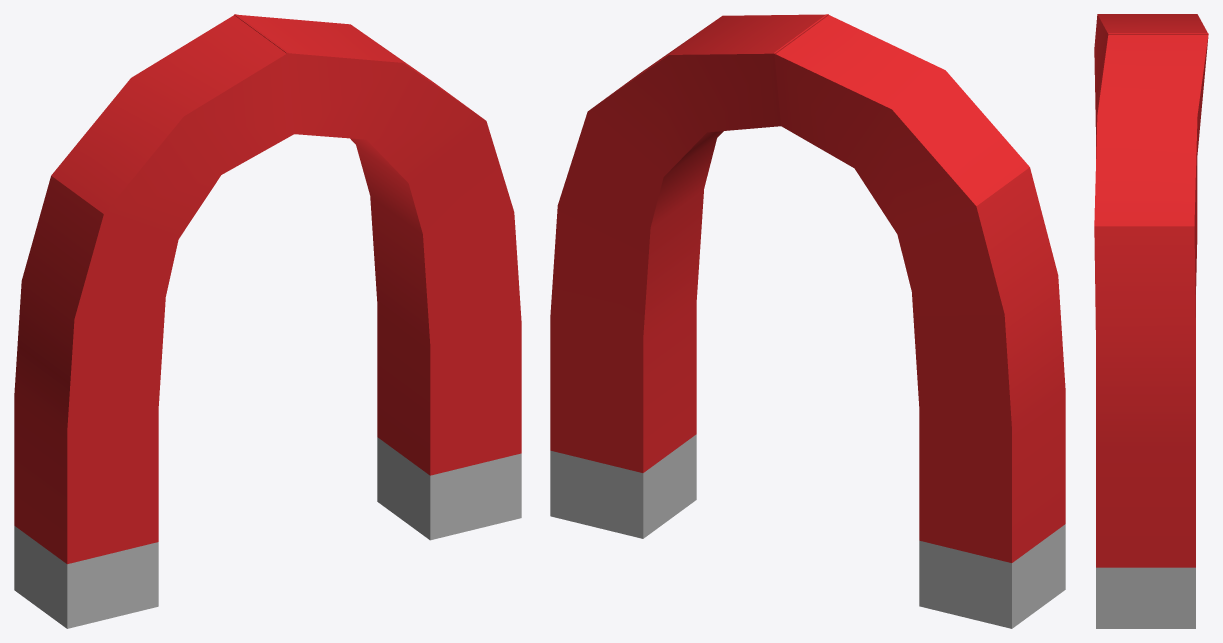
File: NewMagnet22.fbx
3 renders of one model, left to right at view 1: azimuth 30°, elevation 25°; view 2: azimuth 150°, elevation 25°; view 3: azimuth 270°, elevation 25°, orthographic. The views are drawn at different scales.
Parts seen in each view (by area): view 1: Magnet; view 2: Magnet; view 3: Magnet.
Part boxes in pixels (x1=…): Magnet: x1=14, y1=14, x2=521, y2=628; Magnet: x1=550, y1=14, x2=1065, y2=628; Magnet: x1=1094, y1=14, x2=1208, y2=628.
Bounding box in the file's own units: 996 × 1080 × 229.
